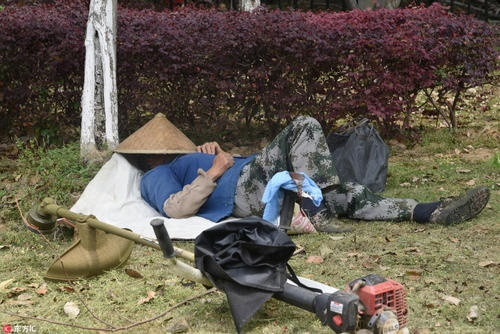falling: (121, 107, 495, 232)
